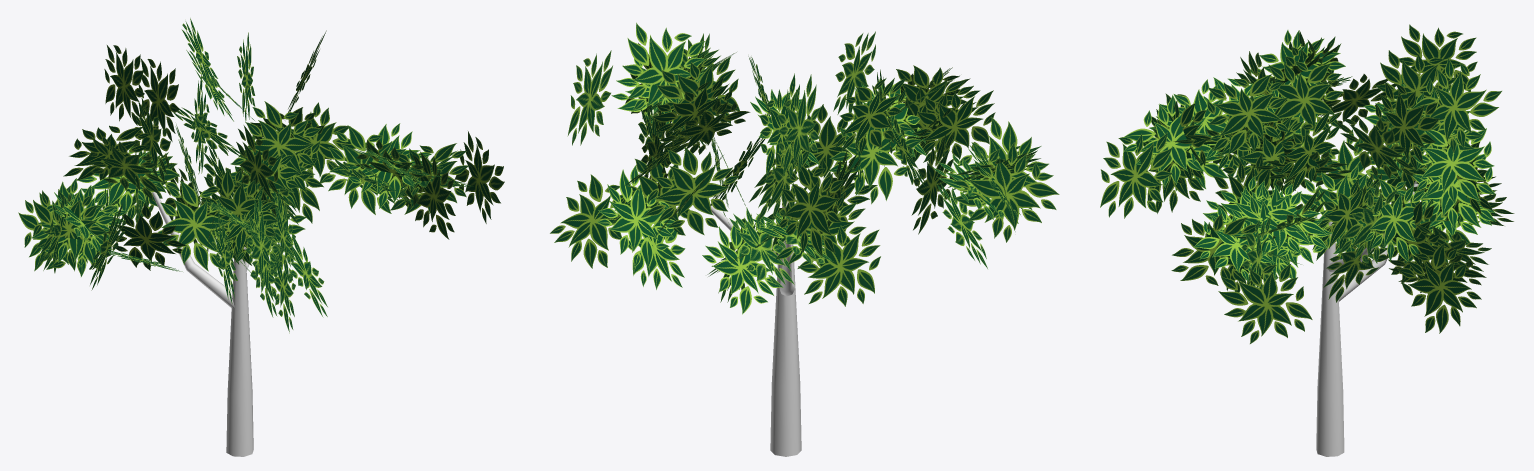
The model's file is Tree1_LOD2.fbx.
3 renders of one model, left to right at view 1: azimuth 30°, elevation 25°; view 2: azimuth 150°, elevation 25°; view 3: azimuth 270°, elevation 25°, orthographic. The views are drawn at different scales.
Parts seen in each view (by area): view 1: Tree1_LOD2; view 2: Tree1_LOD2; view 3: Tree1_LOD2.
Boxes of the visible parts, x1,y1,x2,y2 form: Tree1_LOD2: (18,18,504,456); Tree1_LOD2: (550,22,1059,456); Tree1_LOD2: (1100,24,1514,456).
Bounding box in the file's own units: 1188 × 994 × 950.
